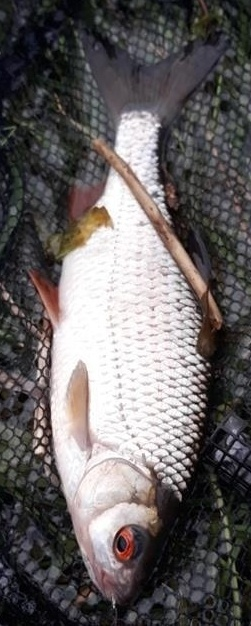Rutilus rutilus: (20, 20, 231, 606)
